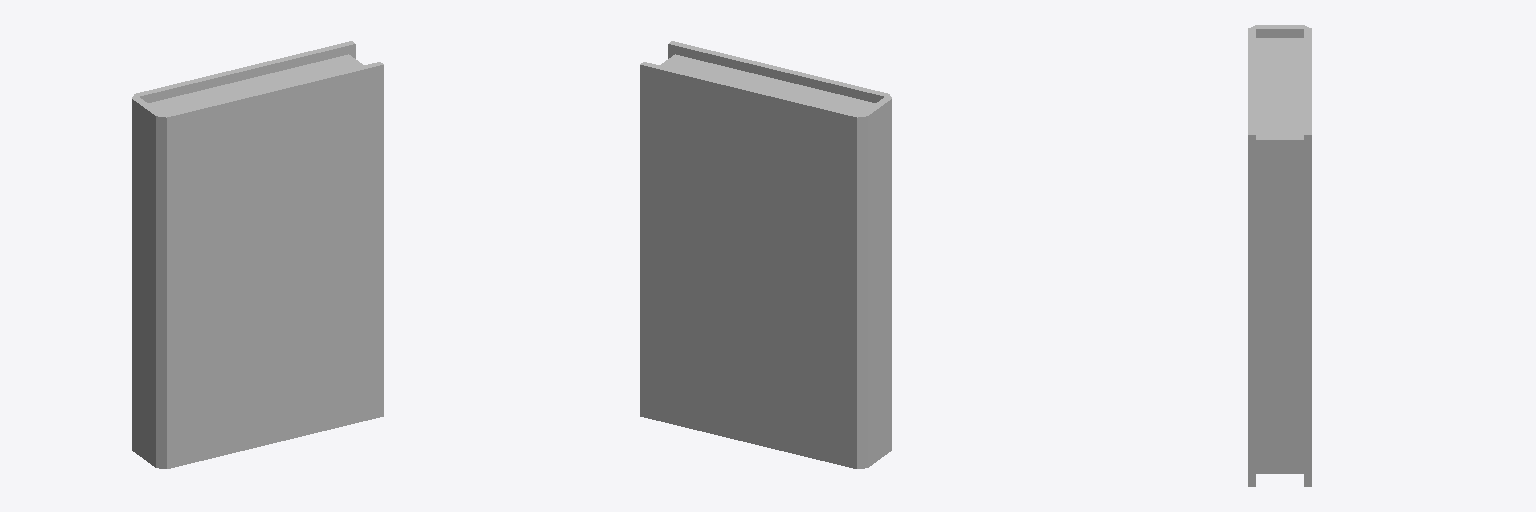
File: OldBook001.obj
The picture shows the model from 3 angles: view 1: azimuth 30°, elevation 25°; view 2: azimuth 150°, elevation 25°; view 3: azimuth 270°, elevation 25°; orthographic projection.
Visible parts, largest first — view 1: OldBook001; view 2: OldBook001; view 3: OldBook001.
Boxes of the visible parts, x1=… form: OldBook001: x1=132, y1=41, x2=383, y2=468; OldBook001: x1=640, y1=41, x2=891, y2=468; OldBook001: x1=1248, y1=25, x2=1311, y2=486.
Size of the model in its own units: 1.4 by 2.1 by 0.35.